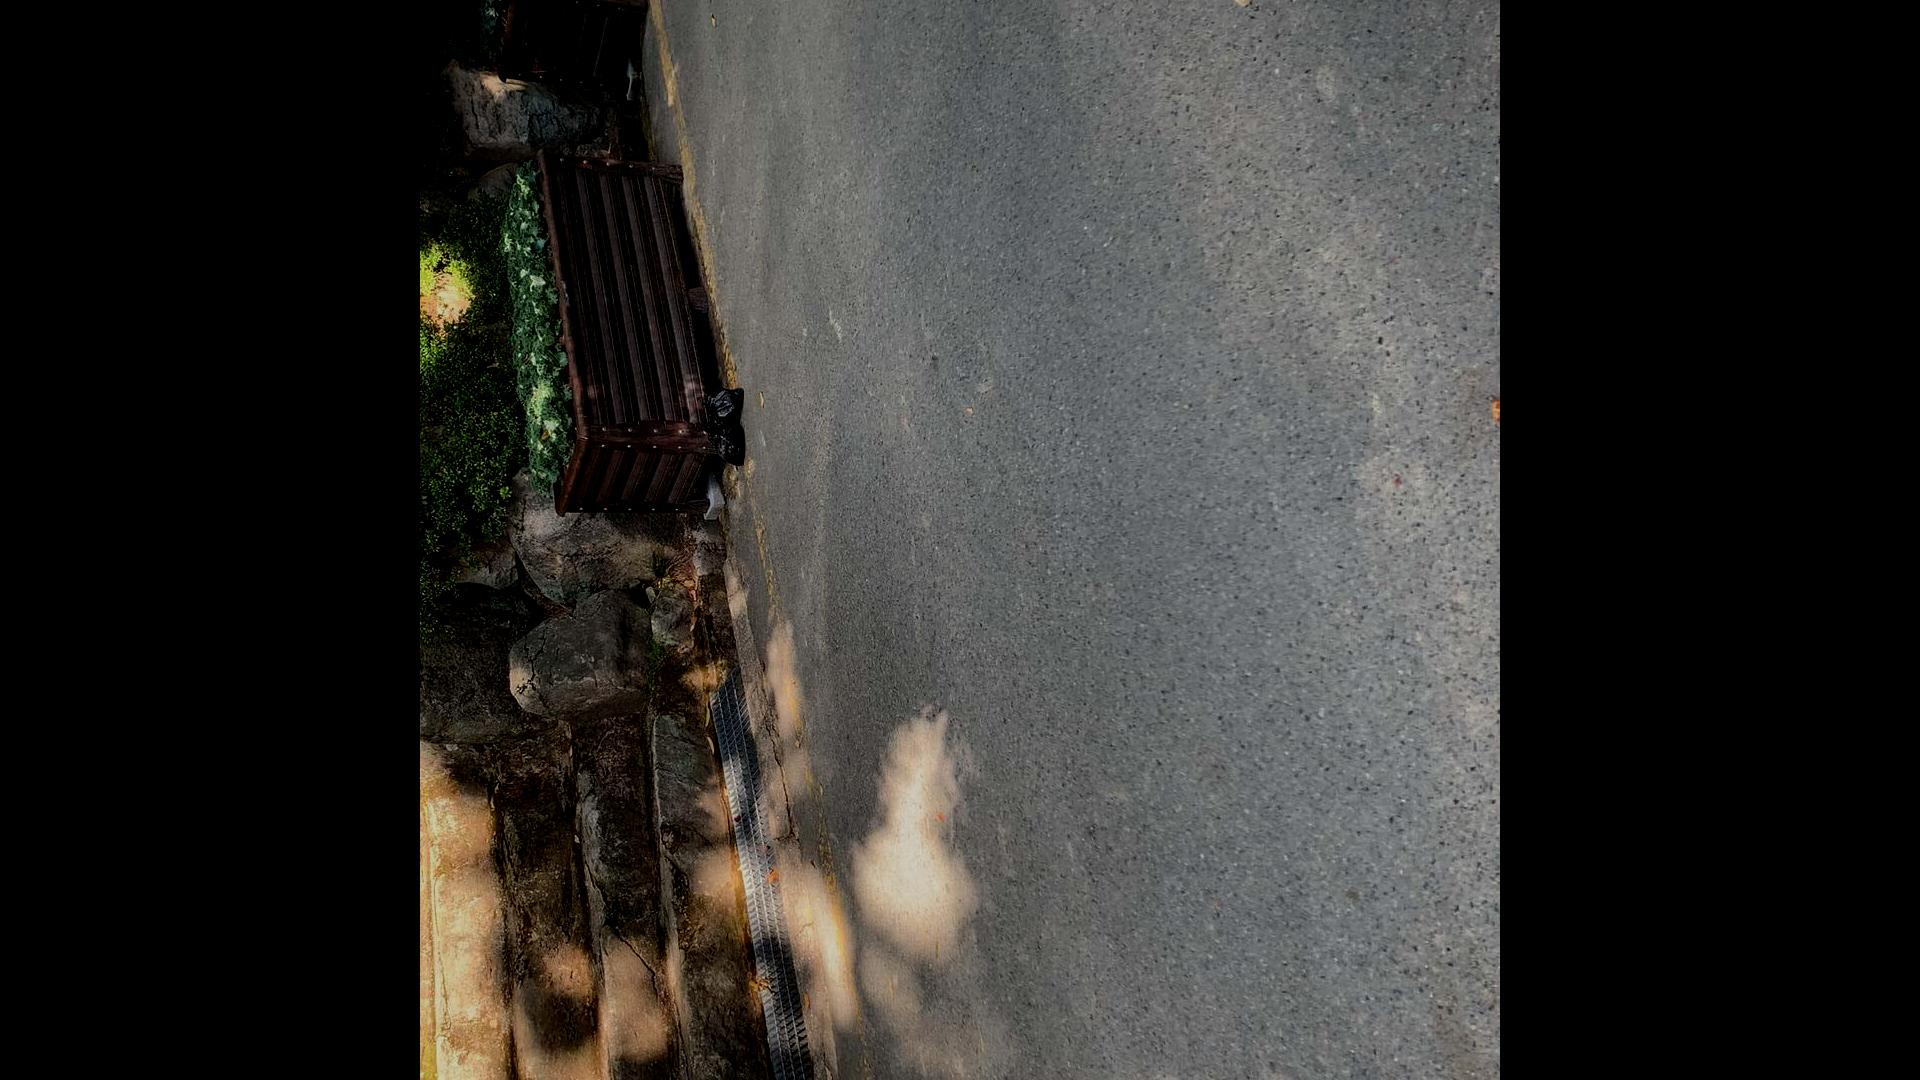black_bag: (702, 385, 746, 431), (704, 425, 745, 473)
